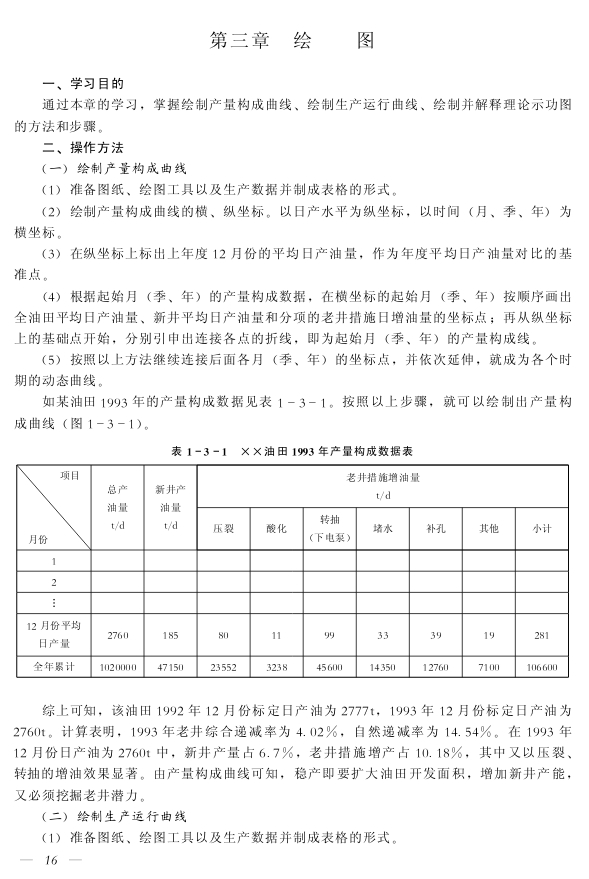table: (16, 463, 569, 677)
